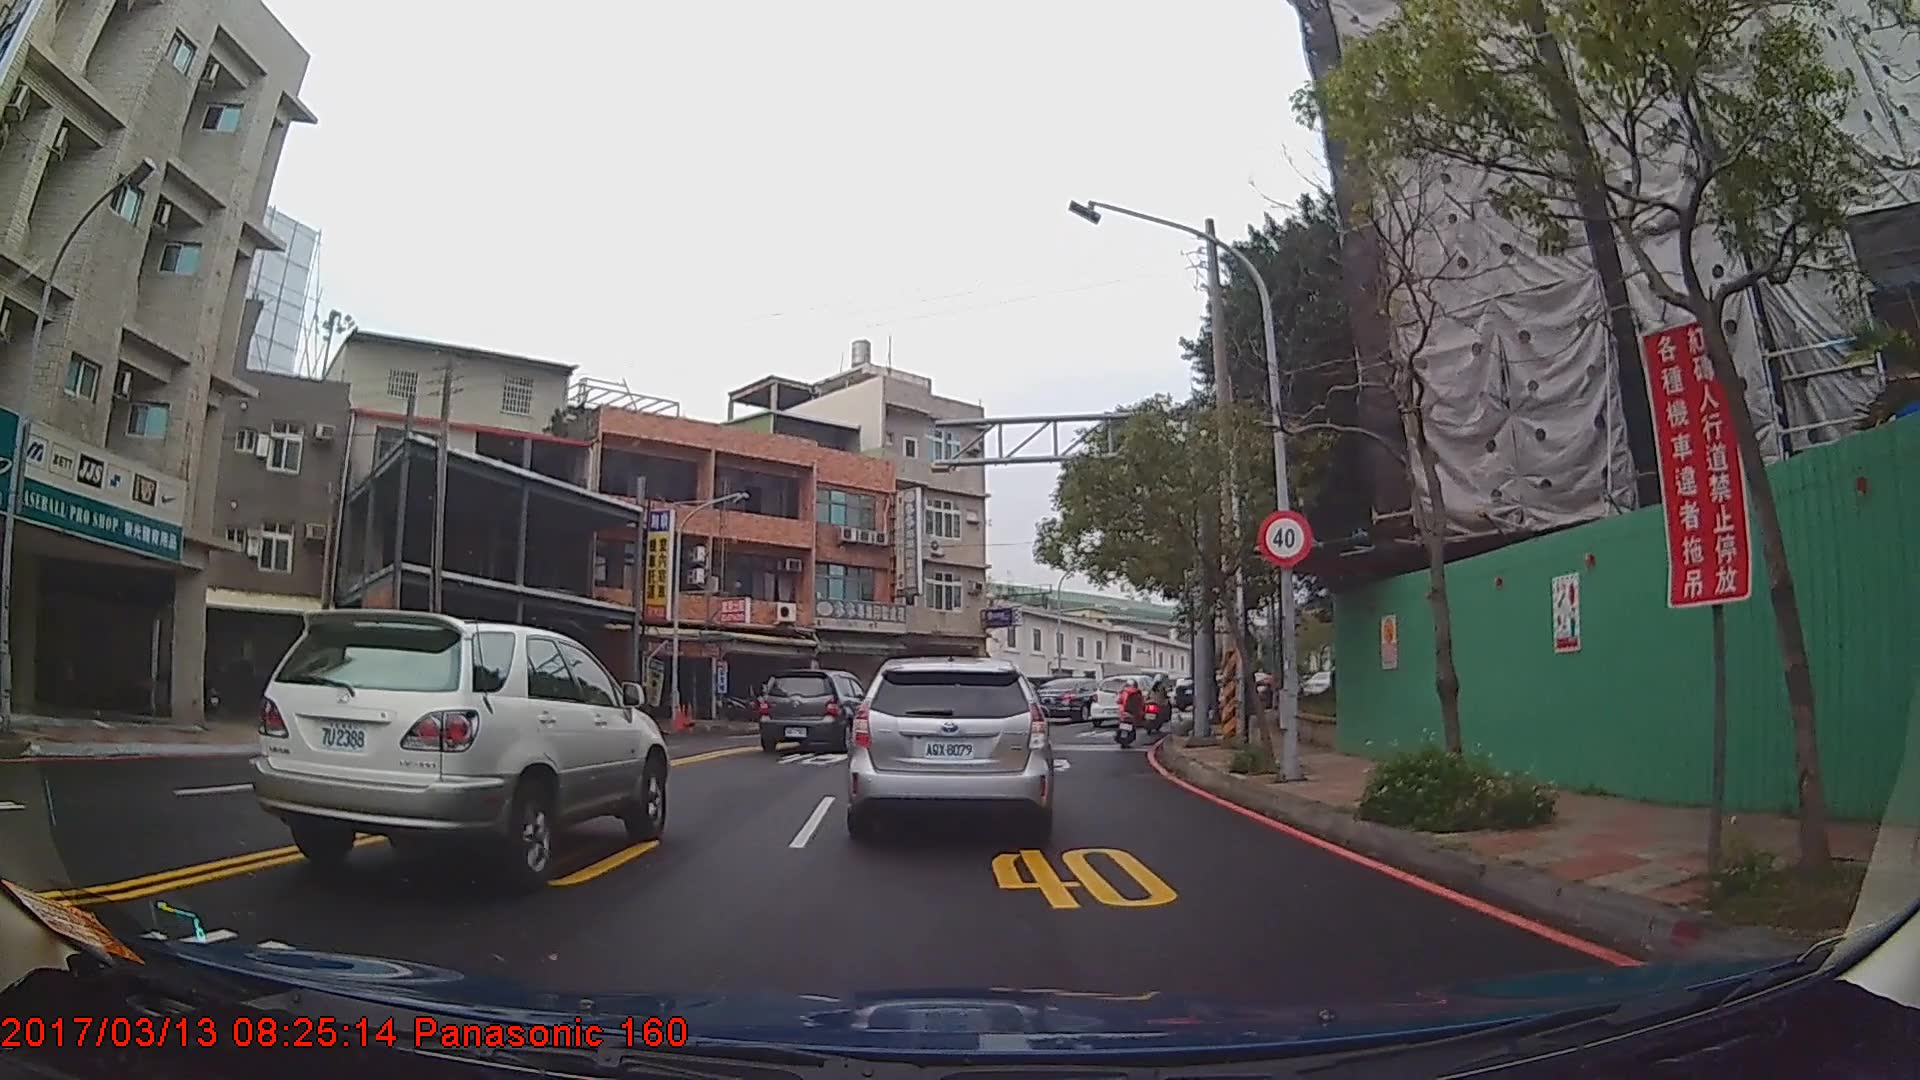rider: (1116, 679, 1145, 748), (1145, 674, 1171, 735)
vehicle: (253, 605, 666, 889), (846, 653, 1055, 844), (759, 668, 875, 755), (1037, 676, 1106, 722)
